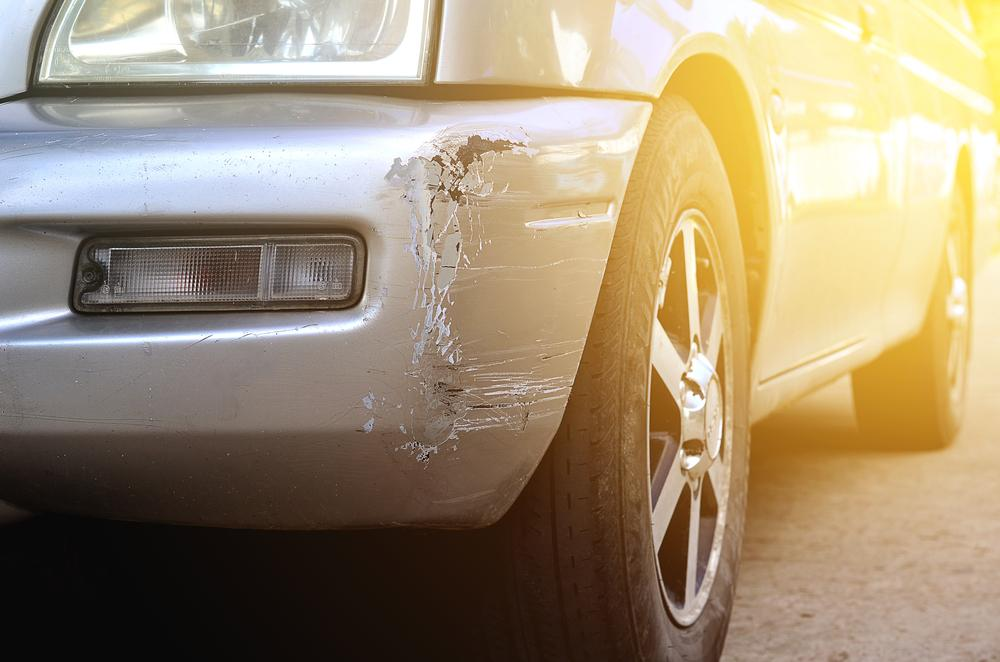scratch: (356, 123, 622, 466)
